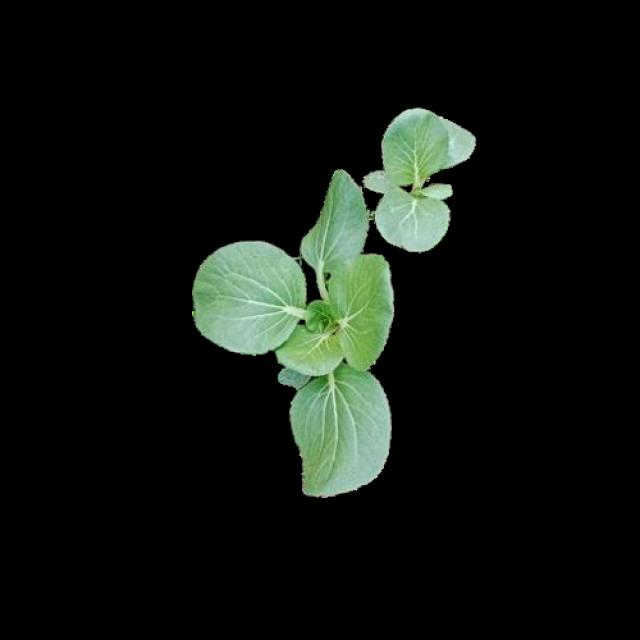healthy: (192, 168, 392, 494), (378, 105, 472, 247)
not-mature: (195, 170, 394, 497), (380, 108, 475, 250)
